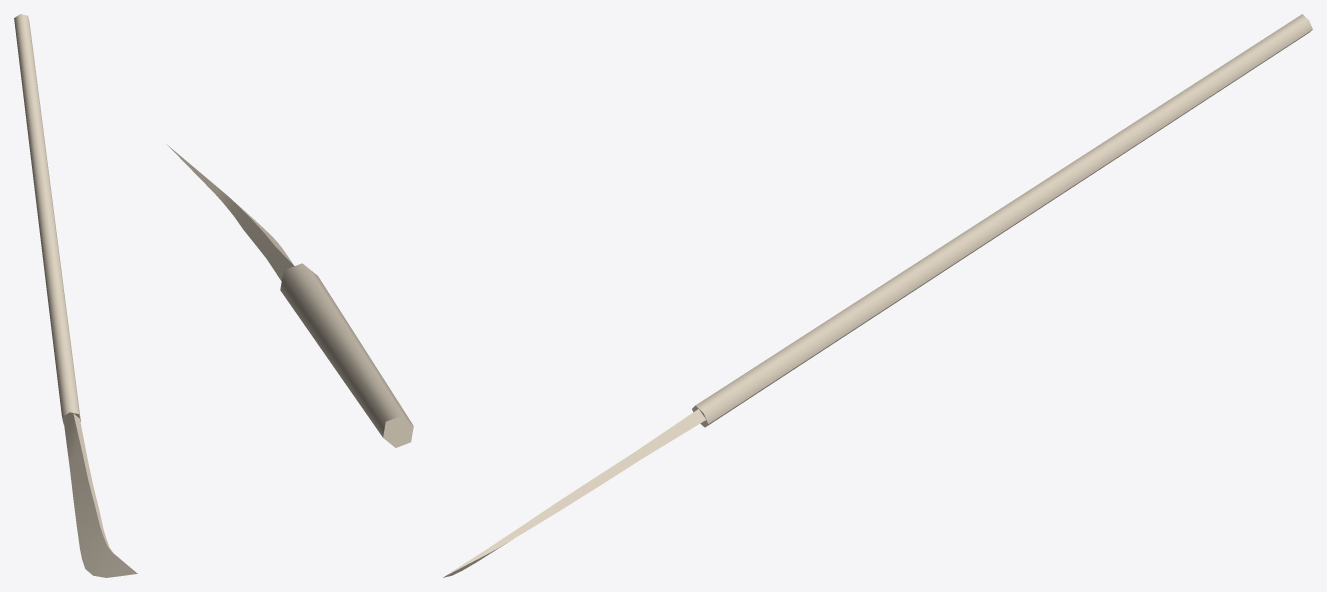
The model's file is rider-weapon-slice-base.glb.
3 views of the same model, side by side, from view 1: azimuth 30°, elevation 25°; view 2: azimuth 210°, elevation 25°; view 3: azimuth 330°, elevation 25° (orthographic). The views are drawn at different scales.
Size of the model in its own units: 1.03 by 0.7813 by 2.37.
